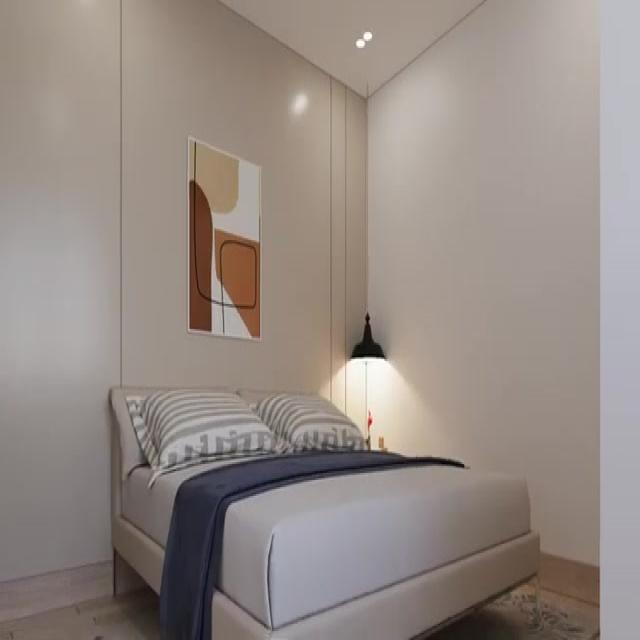obstacle: (108, 382, 541, 638)
